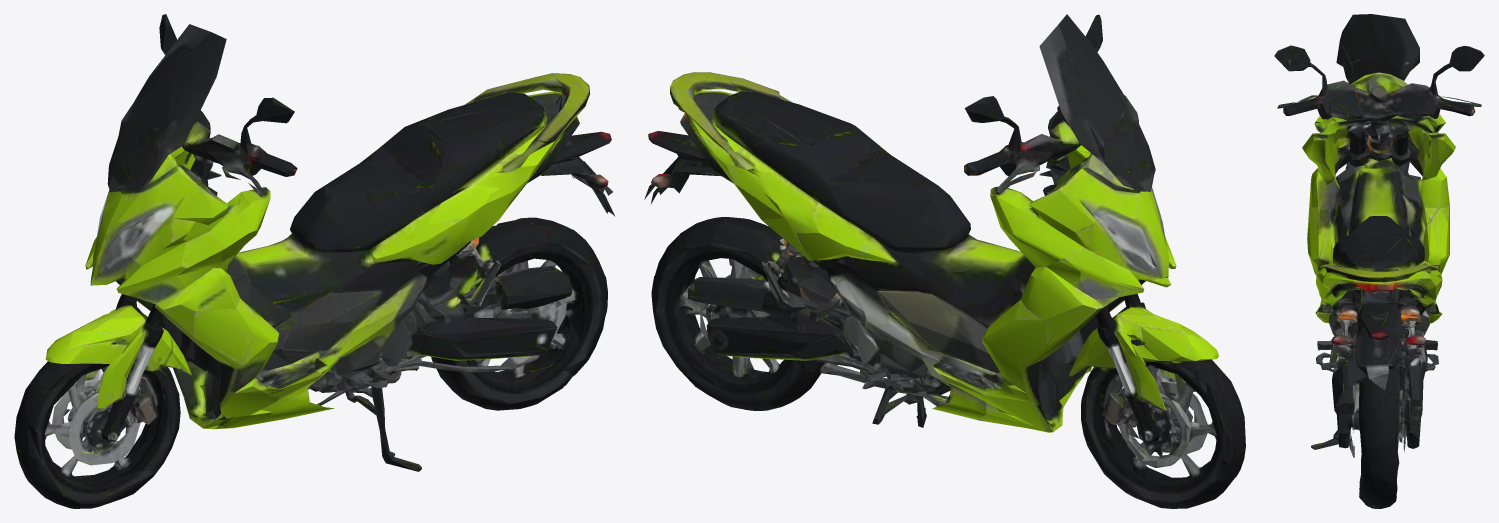
The model's file is roller.glb.
3 renders of one model, left to right at view 1: azimuth 30°, elevation 25°; view 2: azimuth 150°, elevation 25°; view 3: azimuth 270°, elevation 25°, orthographic. The views are drawn at different scales.
Parts seen in each view (by area): view 1: output_unwrapped; view 2: output_unwrapped; view 3: output_unwrapped.
Part boxes in pixels (x1,y1,x2,y2): output_unwrapped: (14,14,615,508); output_unwrapped: (644,14,1245,508); output_unwrapped: (1274,14,1484,508).
Size of the model in its own units: 1.89 by 1.39 by 0.719.
Materials: 1 (1 with a texture image).
